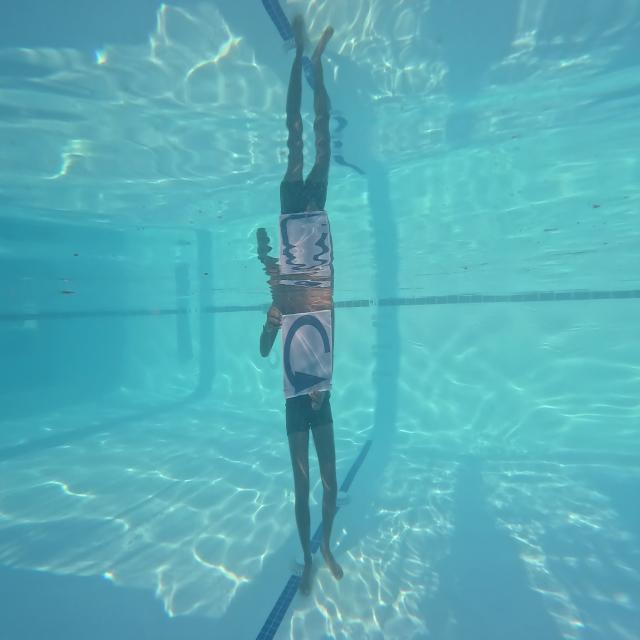blue_side: (281, 312, 334, 400)
